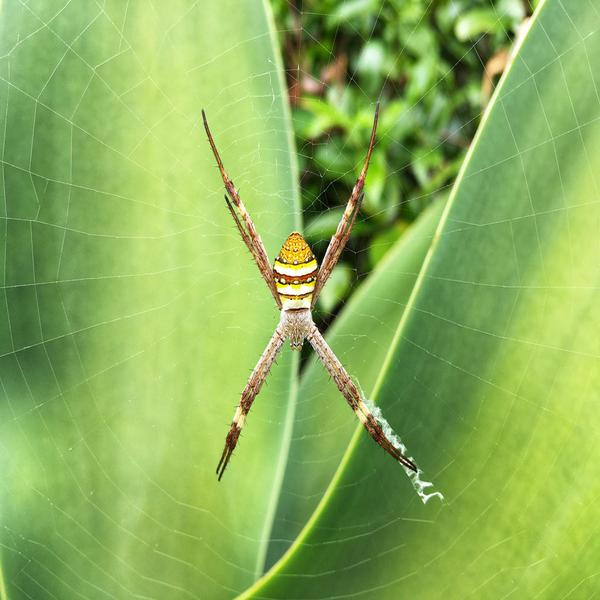St Andrew's Cross Spider: (202, 107, 416, 481)
